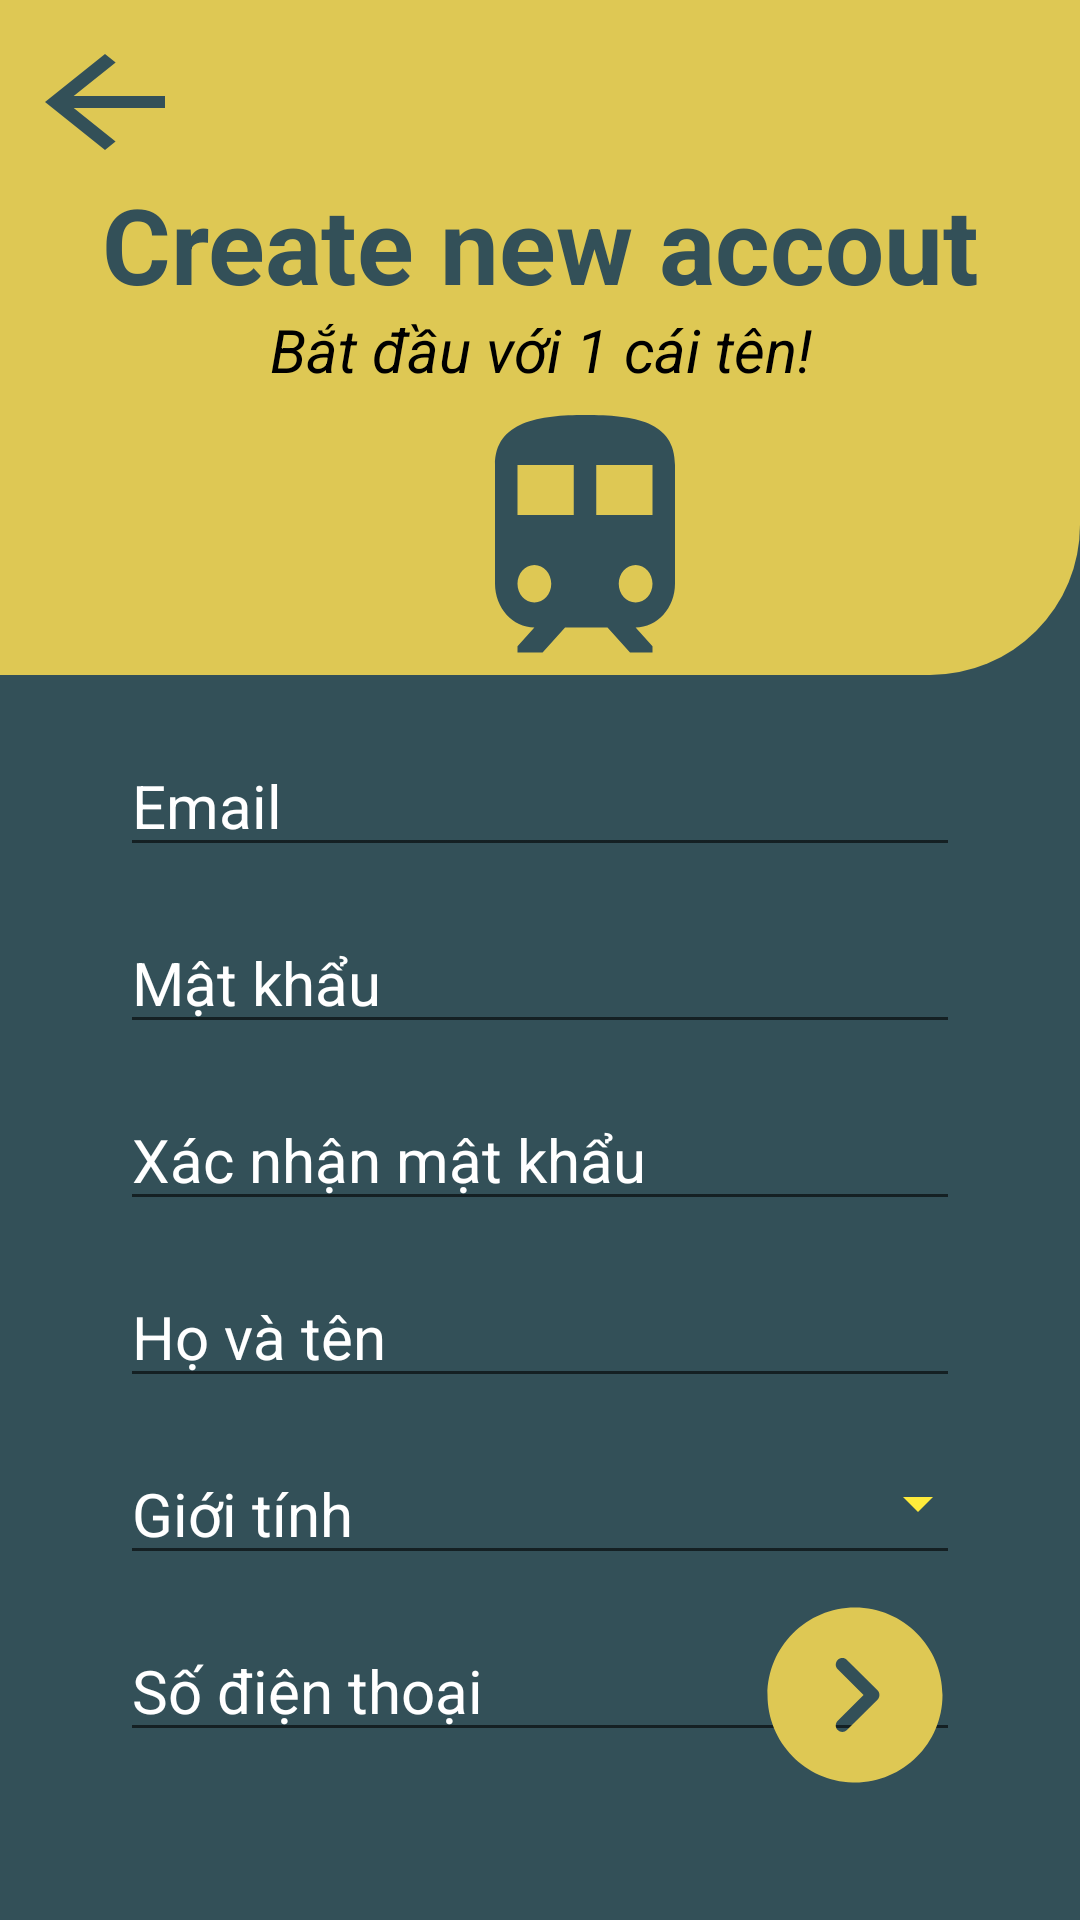

Icon bounding boxes for this 1080px x 1920px phone screenshot, format detection(x1, y1, x2, y2):
arrow back: detection(45, 54, 165, 150)
arrow right circle: detection(750, 1607, 948, 1783)
train: detection(495, 415, 675, 653)
